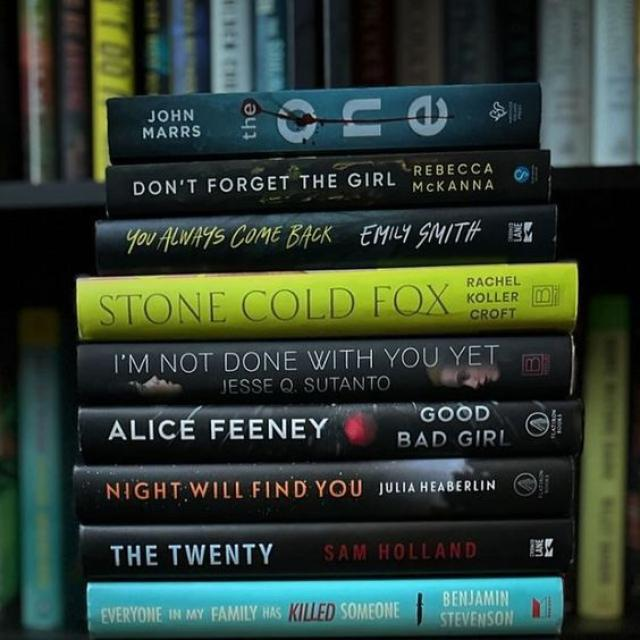book: (75, 264, 580, 339), (107, 80, 542, 162), (75, 335, 577, 402), (77, 398, 585, 464), (72, 461, 573, 524), (97, 204, 556, 272), (103, 149, 551, 218), (79, 520, 575, 582), (88, 582, 559, 636)
